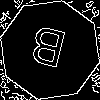B: (25, 25, 68, 78)
